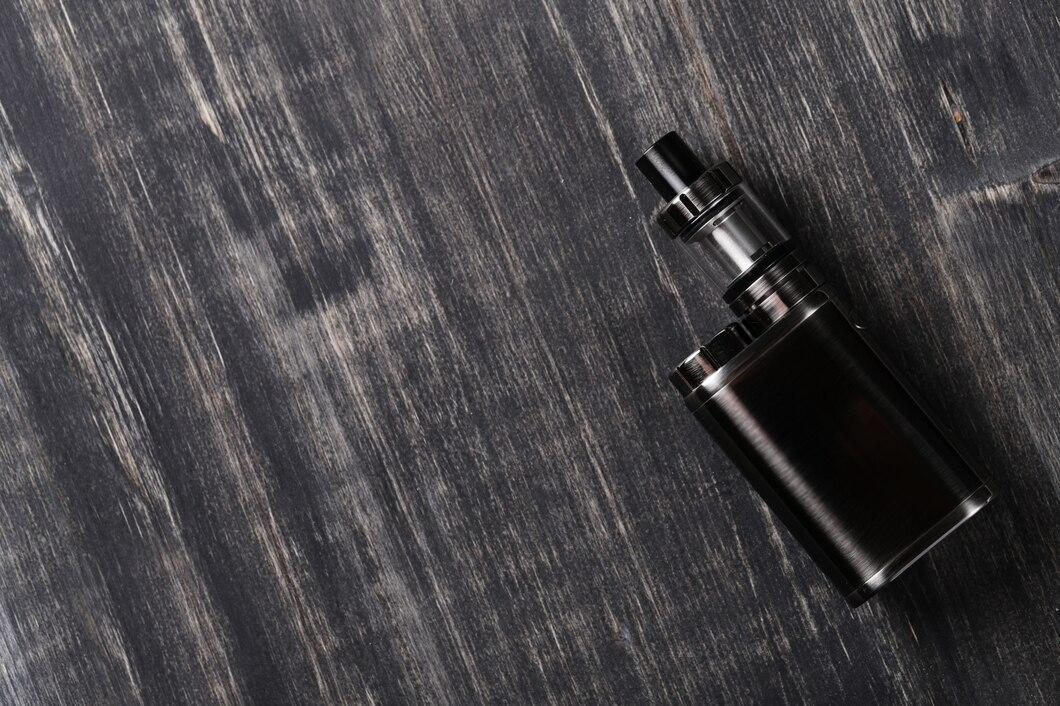Vape: (637, 133, 990, 605)
